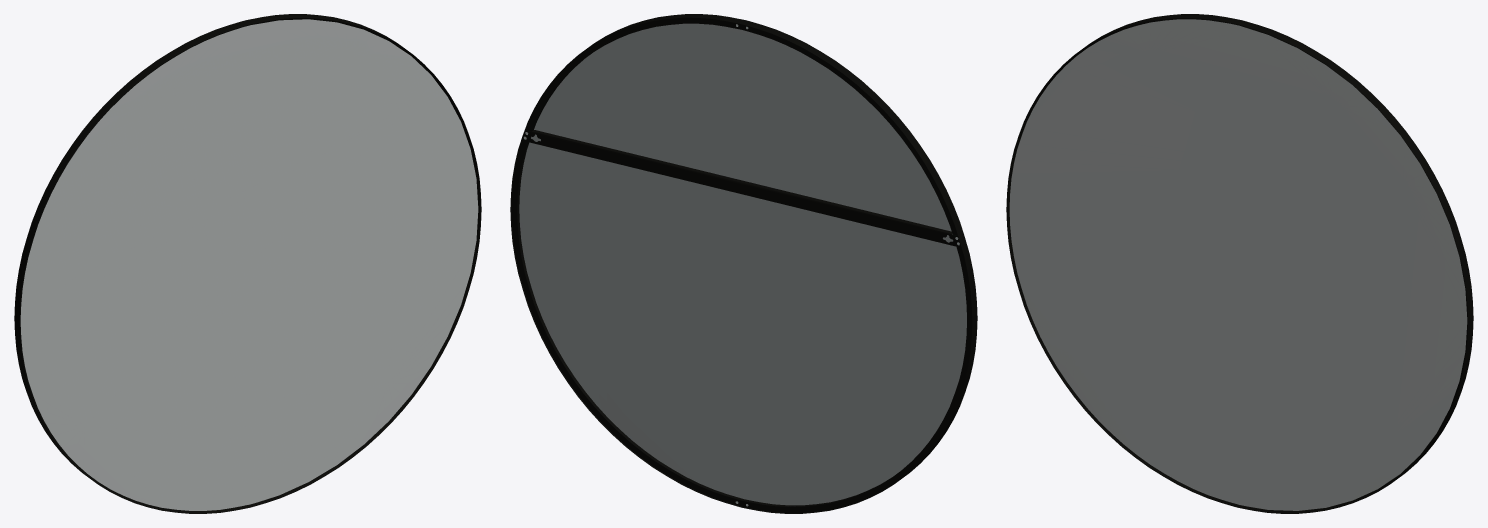
File: lindbyn_lustro_90439218.glb
The picture shows the model from 3 angles, left to right: view 1: azimuth 30°, elevation 25°; view 2: azimuth 150°, elevation 25°; view 3: azimuth 330°, elevation 25°; orthographic projection.
Visible parts, largest first — view 1: lindbyn_lustro_90439218; view 2: lindbyn_lustro_90439218; view 3: lindbyn_lustro_90439218.
Part boxes in pixels (<box>): lindbyn_lustro_90439218: <box>14,14,481,513</box>; lindbyn_lustro_90439218: <box>510,14,977,513</box>; lindbyn_lustro_90439218: <box>1006,14,1473,513</box>.
Bounding box in the file's own units: 1.1 × 1.1 × 0.0219.
2 materials, 2 textured.
